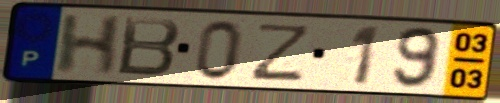0: (192, 18, 246, 83)
1: (344, 24, 382, 87)
9: (391, 25, 444, 91)
B: (114, 15, 183, 80)
H: (53, 13, 127, 77)
Z: (246, 21, 315, 83)
